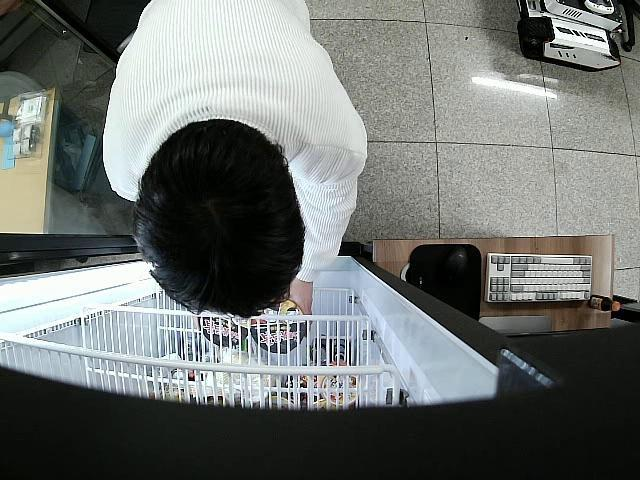07_buldak_L: (250, 296, 306, 354)
